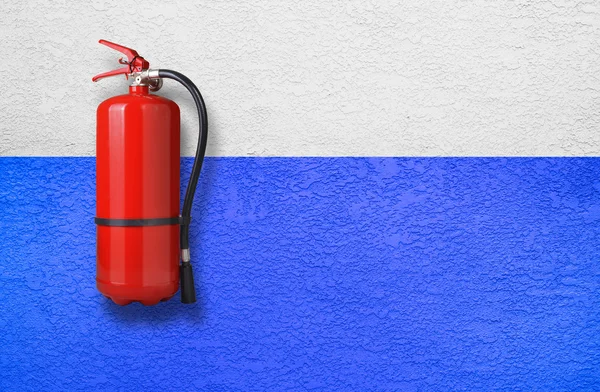fire_extinguisher: (91, 39, 208, 307)
